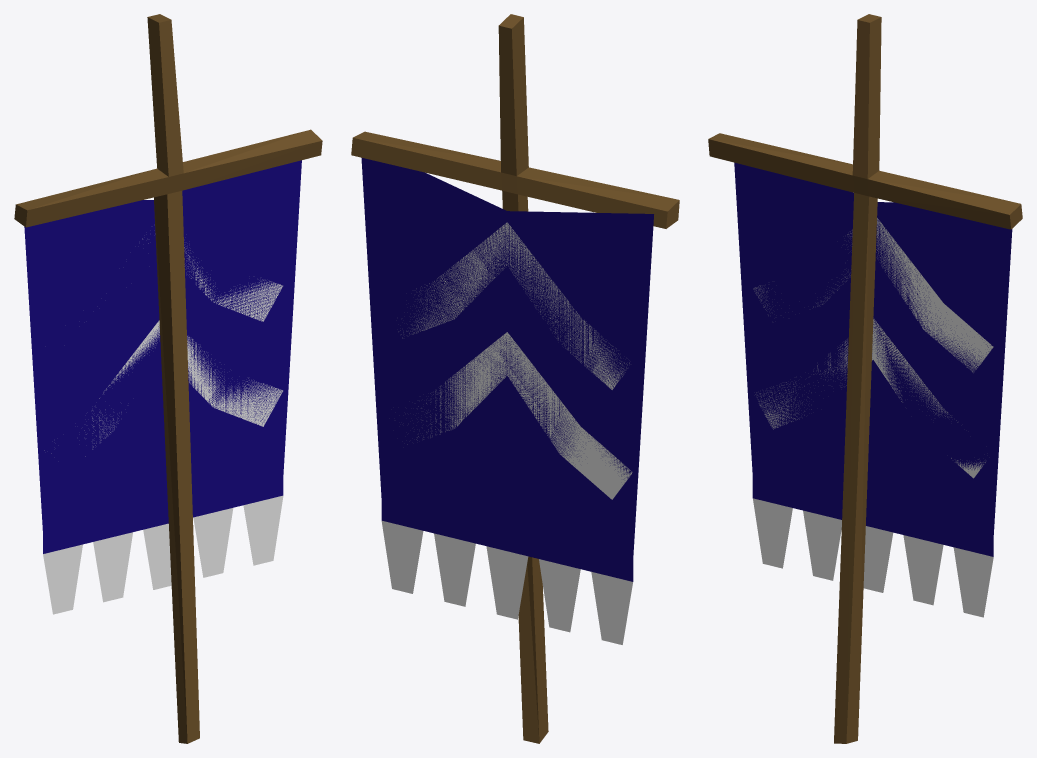
File: obj_standard_5_0.obj
3 renders of one model, left to right at view 1: azimuth 30°, elevation 25°; view 2: azimuth 150°, elevation 25°; view 3: azimuth 330°, elevation 25°, orthographic. The views are drawn at different scales.
Size of the model in its own units: 0.9297 by 2.11 by 0.2031.
